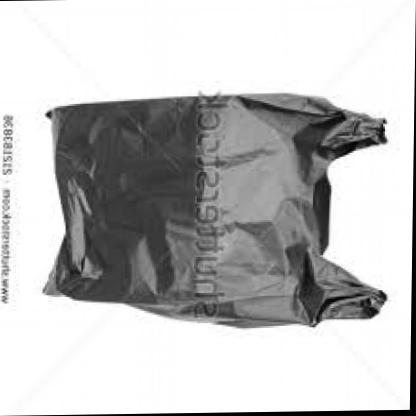Plastic: (19, 64, 403, 370)
